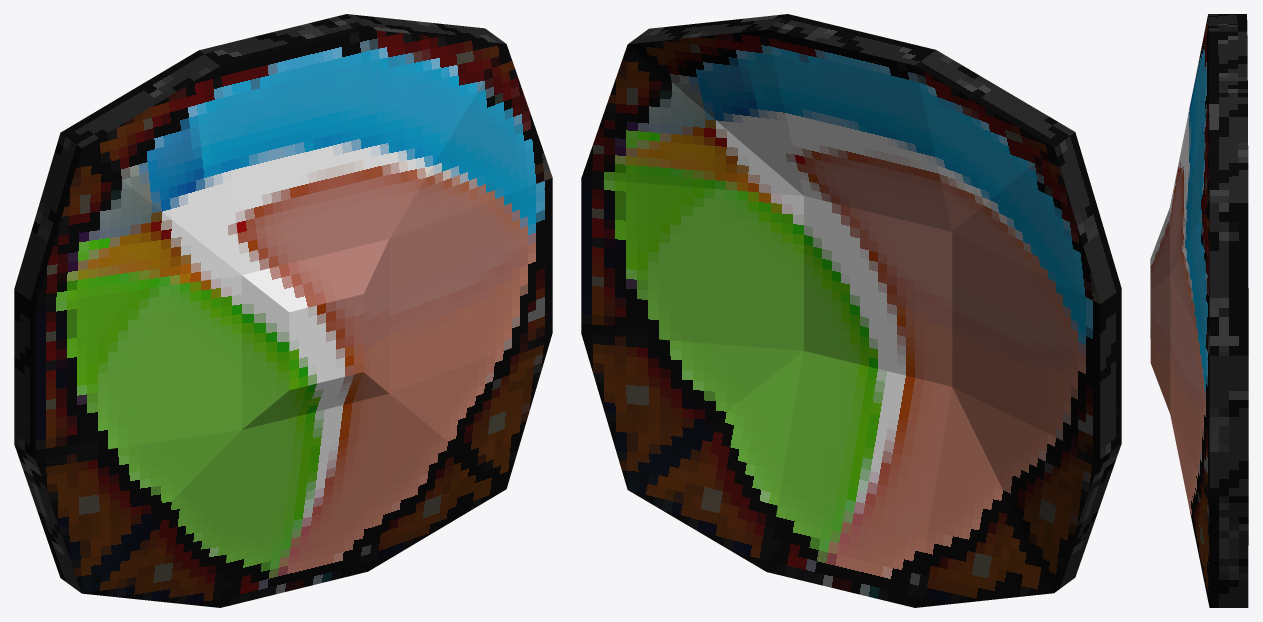
The model's file is reaperShield_V4.fbx.
The picture shows the model from 3 angles, left to right: view 1: azimuth 30°, elevation 25°; view 2: azimuth 150°, elevation 25°; view 3: azimuth 270°, elevation 25°; orthographic projection. The views are drawn at different scales.
Parts seen in each view (by area): view 1: Object_0.001; view 2: Object_0.001; view 3: Object_0.001.
Part boxes in pixels (x1,y1,x2,y2): Object_0.001: [14, 14, 552, 607]; Object_0.001: [581, 14, 1121, 607]; Object_0.001: [1150, 14, 1248, 607].
Bounding box in the file's own units: 87.52 × 87.5 × 15.78.
1 material, 1 textured.
